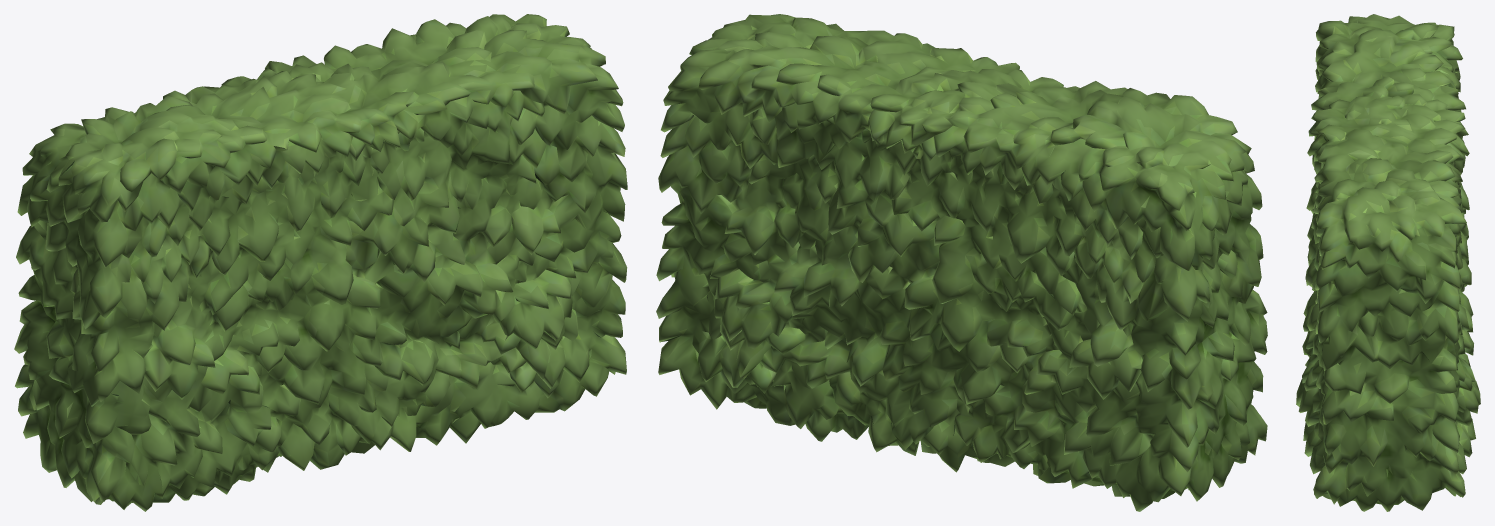
File: HedgeBox.glb
3 renders of one model, left to right at view 1: azimuth 30°, elevation 25°; view 2: azimuth 150°, elevation 25°; view 3: azimuth 270°, elevation 25°, orthographic. The views are drawn at different scales.
Visible parts, largest first — view 1: HedgeBox; view 2: HedgeBox; view 3: HedgeBox.
Boxes of the visible parts, x1=… form: HedgeBox: x1=14, y1=14, x2=627, y2=511; HedgeBox: x1=656, y1=14, x2=1267, y2=511; HedgeBox: x1=1296, y1=14, x2=1480, y2=511.
Bounding box in the file's own units: 1.84 × 1.2 × 0.6253.
Materials: 1 (1 with a texture image).
